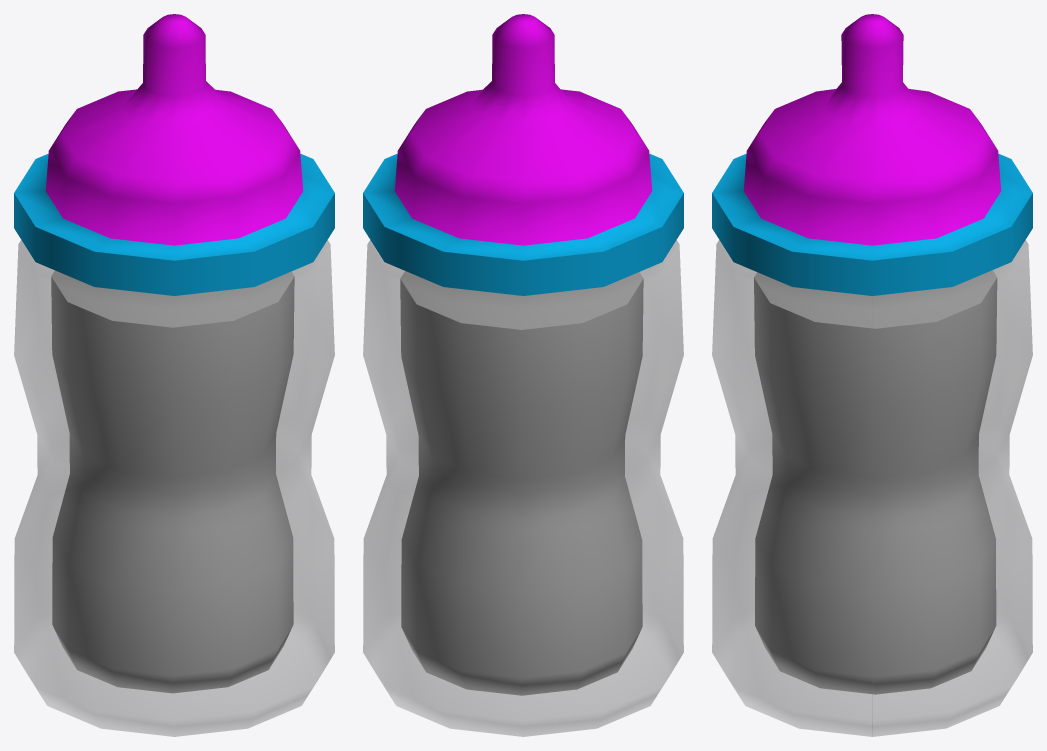
The model's file is MilkBottle.fbx.
3 views of the same model, side by side, from view 1: azimuth 30°, elevation 25°; view 2: azimuth 150°, elevation 25°; view 3: azimuth 270°, elevation 25° (orthographic).
Visible parts, largest first — view 1: MilkBottle3, MilkBottle2; view 2: MilkBottle3, MilkBottle2; view 3: MilkBottle3, MilkBottle2.
Boxes of the visible parts, x1,y1,x2,y2 form: MilkBottle3: [14, 14, 334, 736]; MilkBottle2: [51, 270, 294, 693]; MilkBottle3: [363, 14, 683, 736]; MilkBottle2: [400, 271, 643, 695]; MilkBottle3: [712, 14, 1032, 736]; MilkBottle2: [754, 270, 997, 694].
Bounding box in the file's own units: 30 × 67.6 × 30.
